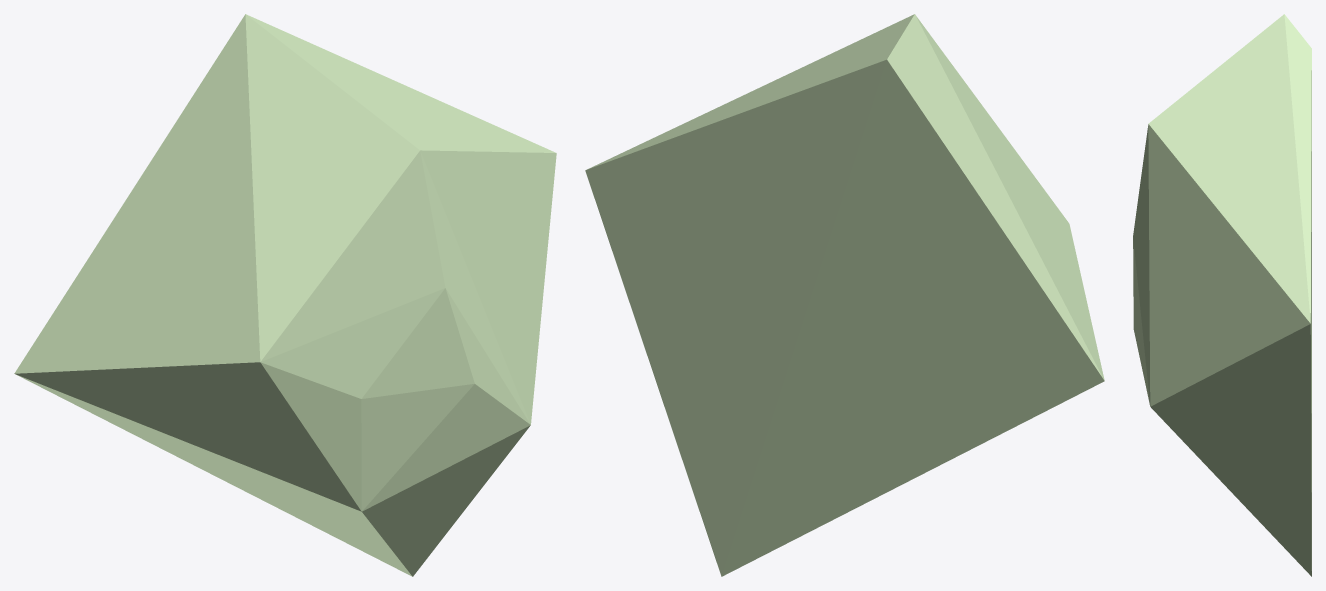
File: kuka_robot_base_coll_8.dae
The picture shows the model from 3 angles, left to right: view 1: azimuth 30°, elevation 25°; view 2: azimuth 150°, elevation 25°; view 3: azimuth 270°, elevation 25°; orthographic projection. The views are drawn at different scales.
Parts seen in each view (by area): view 1: Node_0000015C5C916960; view 2: Node_0000015C5C916960; view 3: Node_0000015C5C916960.
Part boxes in pixels (x1,y1,x2,y2): Node_0000015C5C916960: (14, 14, 556, 576); Node_0000015C5C916960: (585, 14, 1104, 576); Node_0000015C5C916960: (1133, 14, 1311, 576).
Bounding box in the file's own units: 0.0363 × 0.0396 × 0.0131.
